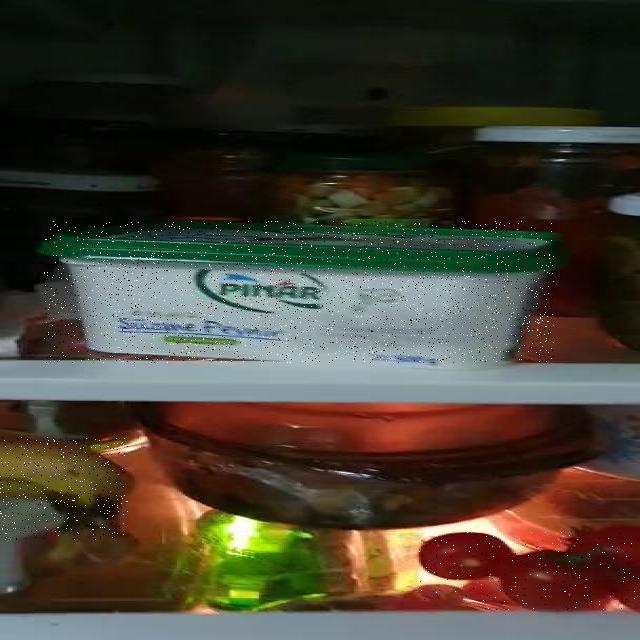banana: (0, 437, 128, 540)
cheese: (44, 221, 554, 363)
tomato: (419, 532, 640, 610)
